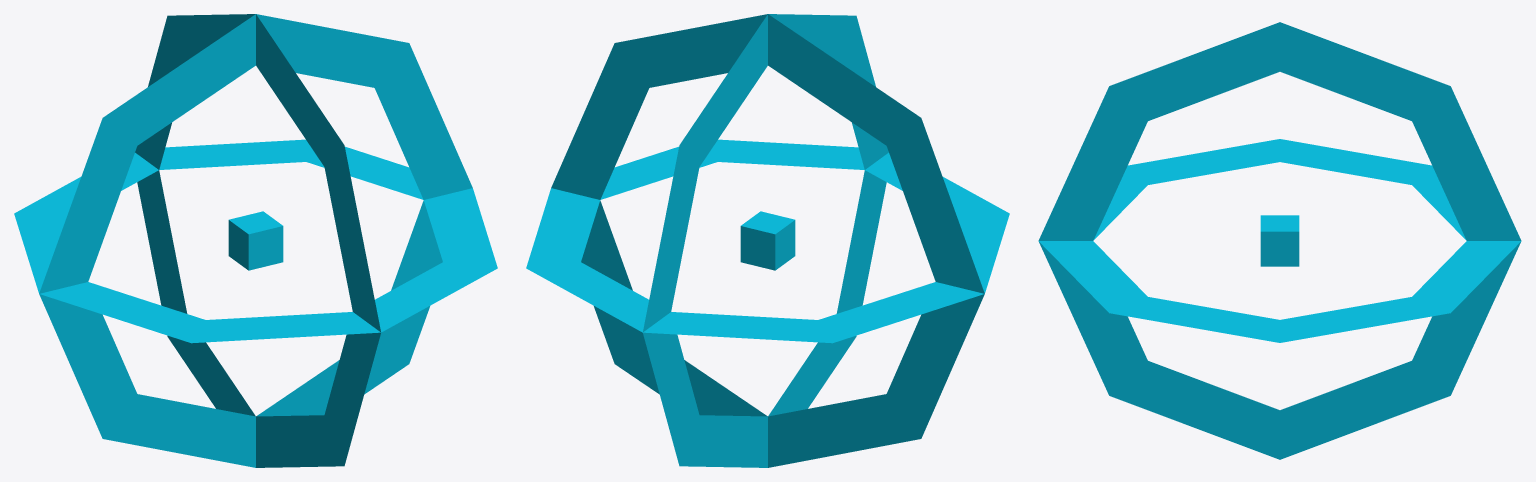
File: pointHelperGizmo.FBX
3 views of the same model, side by side, from view 1: azimuth 30°, elevation 25°; view 2: azimuth 150°, elevation 25°; view 3: azimuth 270°, elevation 25° (orthographic). The views are drawn at different scales.
Visible parts, largest first — view 1: pointHelperGizmo; view 2: pointHelperGizmo; view 3: pointHelperGizmo.
Boxes of the visible parts, x1,y1,x2,y2 form: pointHelperGizmo: [14, 14, 497, 467]; pointHelperGizmo: [526, 14, 1009, 467]; pointHelperGizmo: [1038, 22, 1521, 459].
Bounding box in the file's own units: 14.76 × 14.76 × 14.76.
